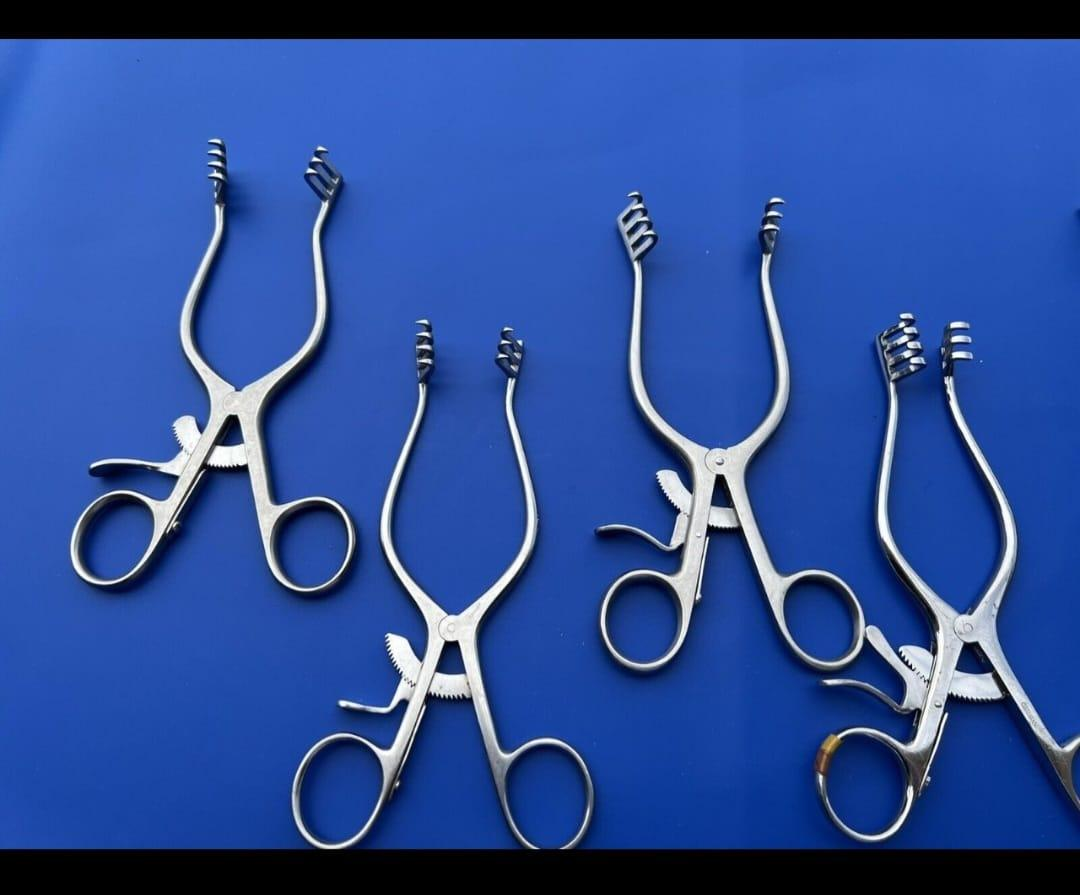Self Retractor: (281, 321, 603, 847), (803, 317, 1077, 853), (54, 129, 363, 603), (593, 189, 856, 657)
